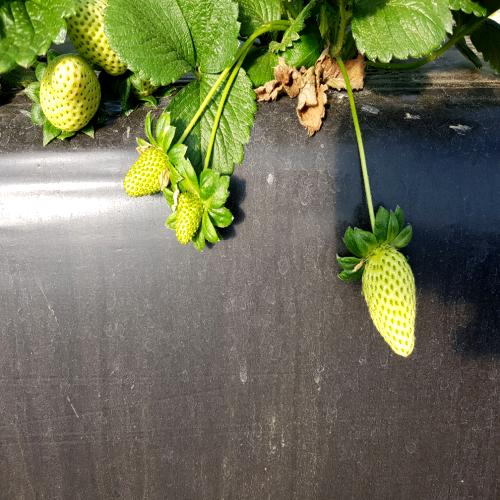unripe: (360, 236, 422, 374), (37, 48, 105, 134), (124, 142, 172, 206), (174, 186, 205, 252)
